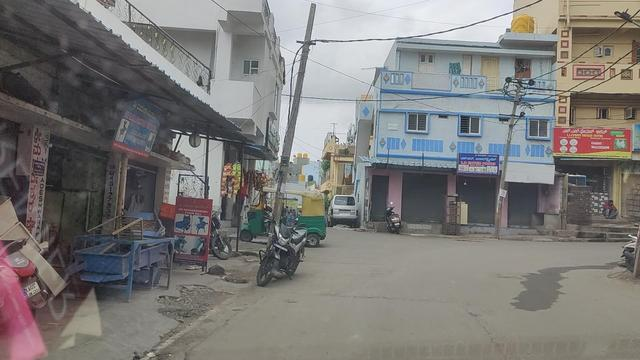RoadDamages: (461, 302, 506, 360), (319, 284, 438, 305)
